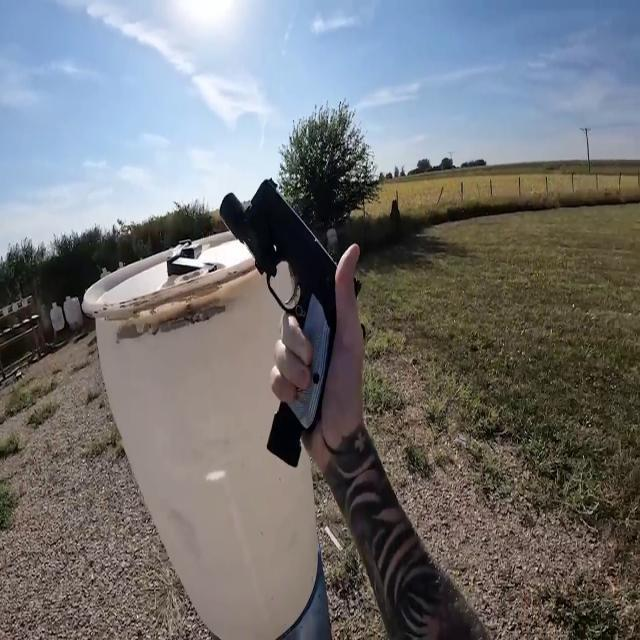Handgun: (203, 170, 368, 472)
